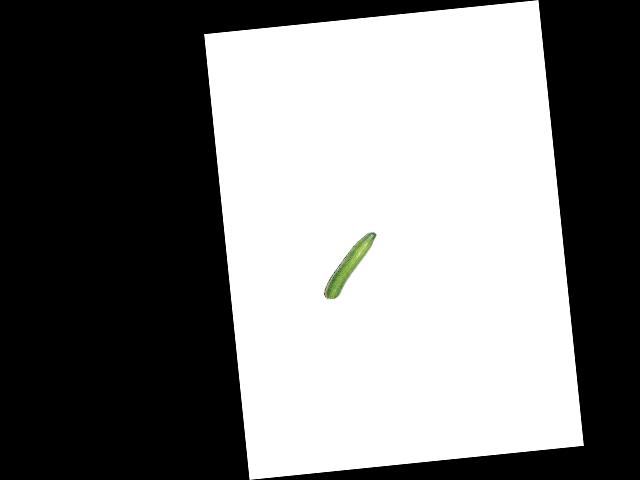cucumber: (318, 232, 382, 300)
